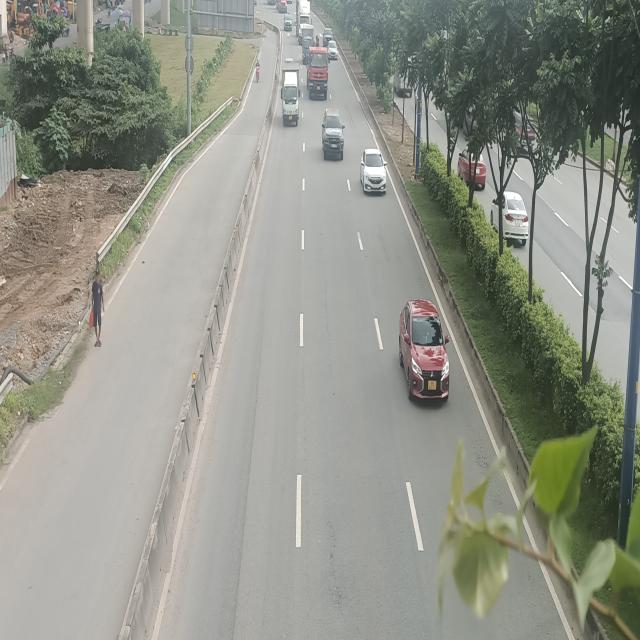car: (399, 298, 451, 404), (322, 106, 345, 160), (360, 150, 387, 193), (328, 41, 338, 58)
container: (296, 0, 312, 44)
truck: (306, 46, 330, 98), (281, 63, 300, 125)
